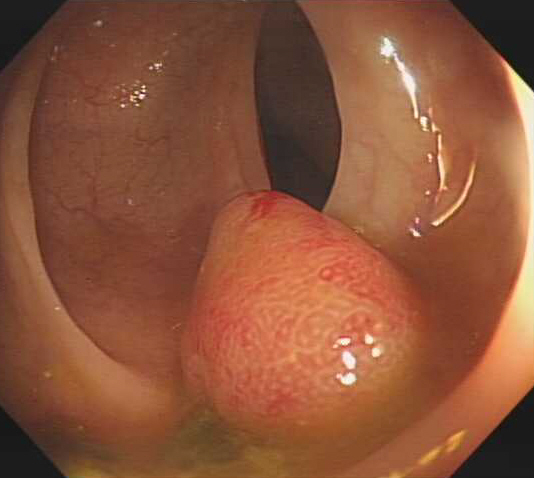others: (176, 186, 425, 446)
